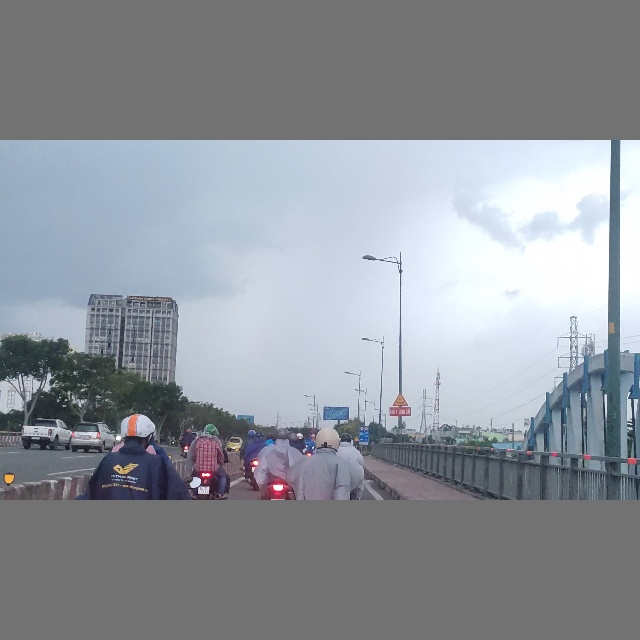W.201a: (353, 436, 360, 441)
W.245a: (392, 392, 409, 407)
